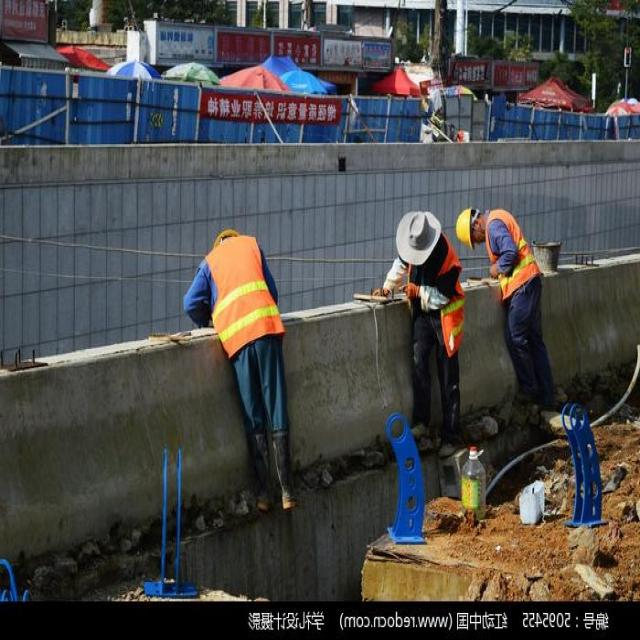Reflective-Jacket: (204, 234, 284, 357), (385, 263, 476, 348), (487, 203, 542, 299)
Safety-Helmet: (394, 205, 441, 264), (454, 204, 474, 248)
